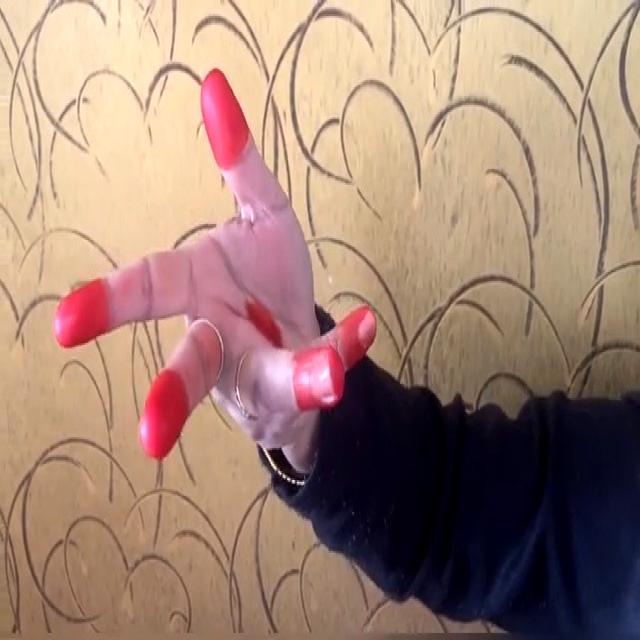Alapadma: (52, 59, 387, 466)
